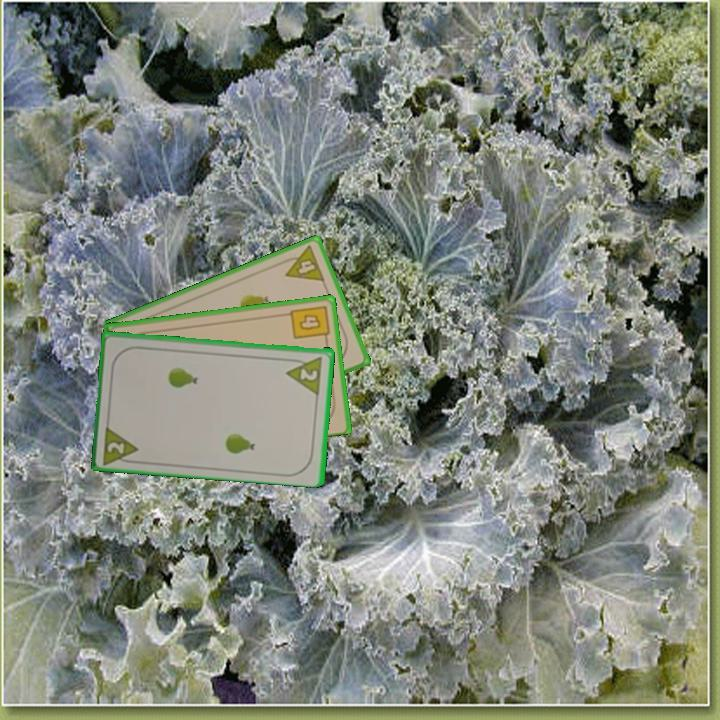2p: (99, 421, 142, 466), (283, 352, 325, 396)
4b: (287, 302, 332, 344)
4p: (277, 242, 328, 284)
